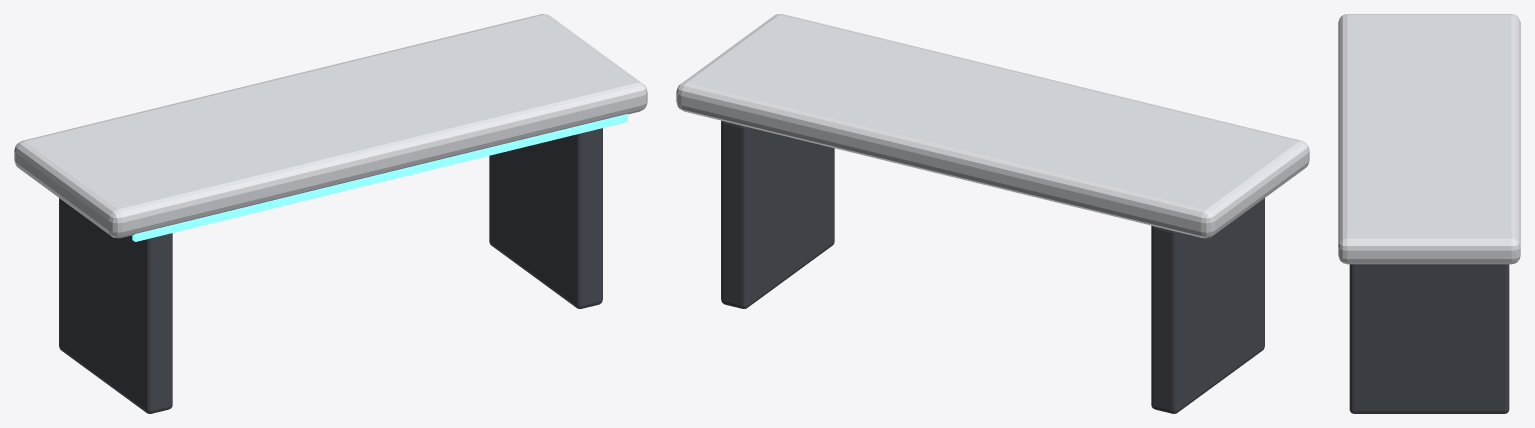
File: bench_slab.glb
3 renders of one model, left to right at view 1: azimuth 30°, elevation 25°; view 2: azimuth 150°, elevation 25°; view 3: azimuth 270°, elevation 25°, orthographic. The views are drawn at different scales.
Parts seen in each view (by area): view 1: GD_bench_slab__m1, GD_bench_slab__m0, GD_bench_slab__m2; view 2: GD_bench_slab__m1, GD_bench_slab__m0; view 3: GD_bench_slab__m1, GD_bench_slab__m0.
Boxes of the visible parts, x1,y1,x2,y2 form: GD_bench_slab__m1: [14, 14, 647, 238]; GD_bench_slab__m0: [59, 128, 602, 413]; GD_bench_slab__m2: [132, 114, 627, 241]; GD_bench_slab__m1: [676, 14, 1309, 238]; GD_bench_slab__m0: [721, 120, 1264, 413]; GD_bench_slab__m1: [1338, 14, 1520, 264]; GD_bench_slab__m0: [1349, 264, 1509, 413].
Bounding box in the file's own units: 1.2 × 0.46 × 0.4.
